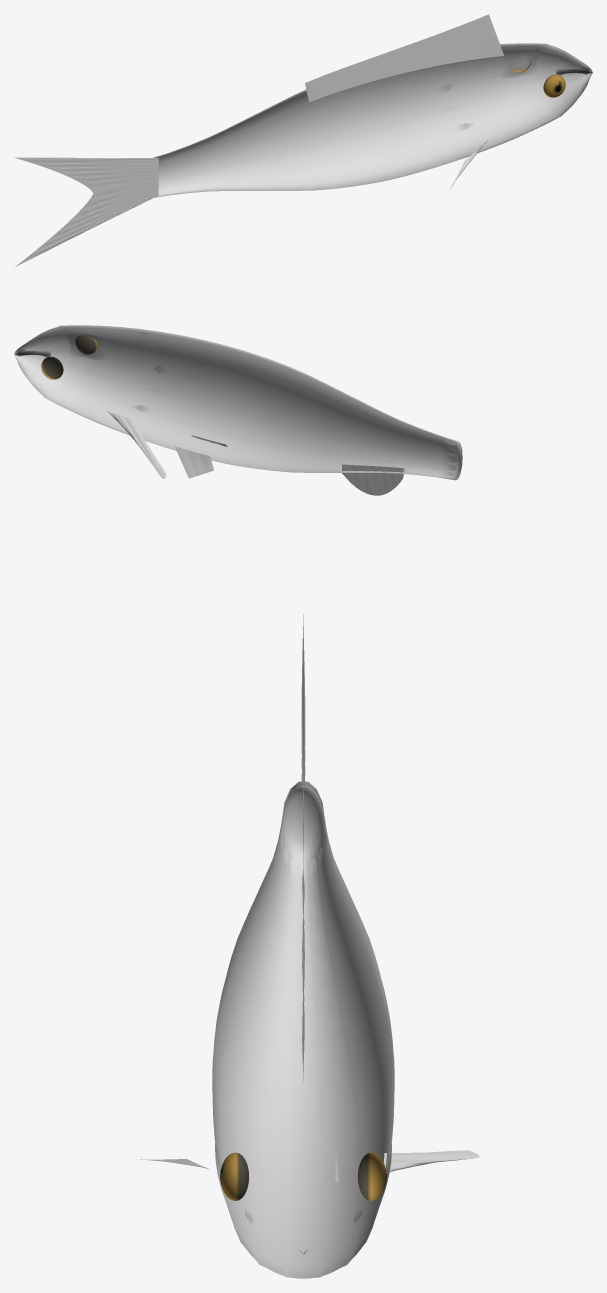
Rendered from largemouth-yellowfish.glb.
3 views of the same model, one above another, from view 1: azimuth 30°, elevation 25°; view 2: azimuth 150°, elevation 25°; view 3: azimuth 270°, elevation 25° (orthographic). The views are drawn at different scales.
Parts seen in each view (by area): view 1: BodyLow, Fins, Body, Eyes; view 2: BodyLow, Body, Fins, Eyes; view 3: BodyLow, Body, Fins, Eyes.
Boxes of the visible parts, box(x1,y1,x2,y2) form: BodyLow: box(150, 43, 592, 198); Fins: box(14, 14, 503, 266); Body: box(151, 43, 592, 196); Eyes: box(509, 60, 565, 97); BodyLow: box(14, 325, 462, 480); Body: box(14, 325, 461, 478); Fins: box(105, 382, 404, 495); Eyes: box(41, 335, 97, 379); BodyLow: box(212, 781, 394, 1277); Body: box(213, 786, 393, 1278); Fins: box(136, 614, 479, 1182); Eyes: box(220, 1152, 386, 1200).
Size of the model in its own units: 0.7089 by 0.1762 by 0.1871.
